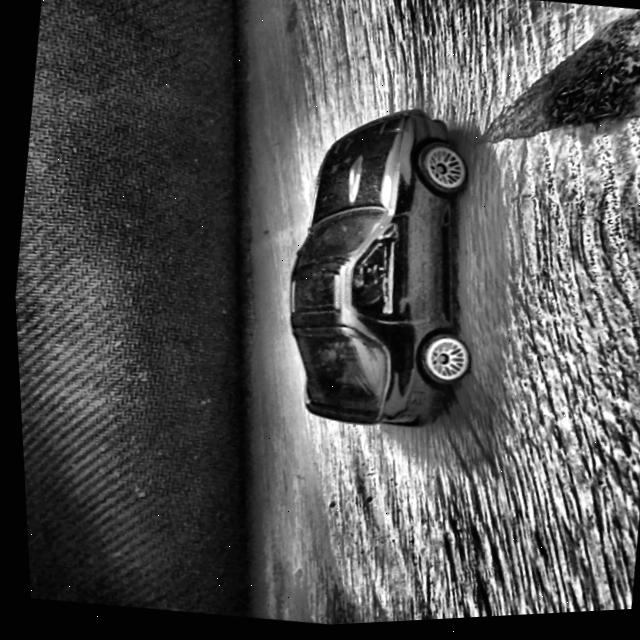car: (259, 94, 504, 445)
